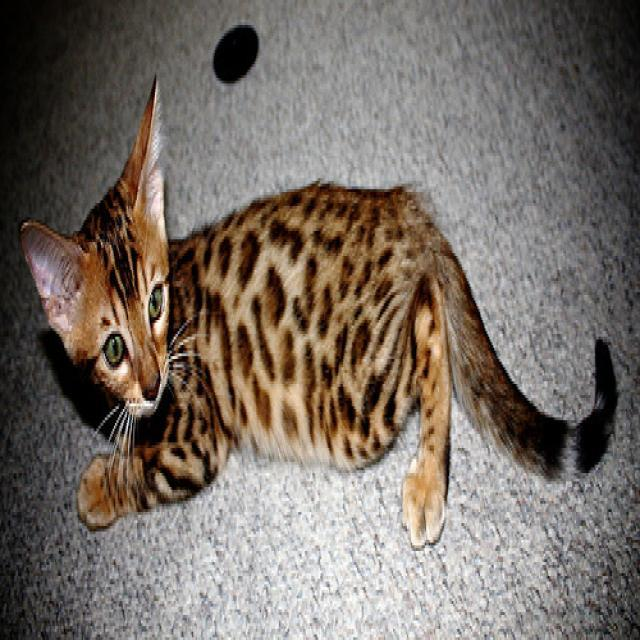Bengal: (19, 70, 168, 415)
